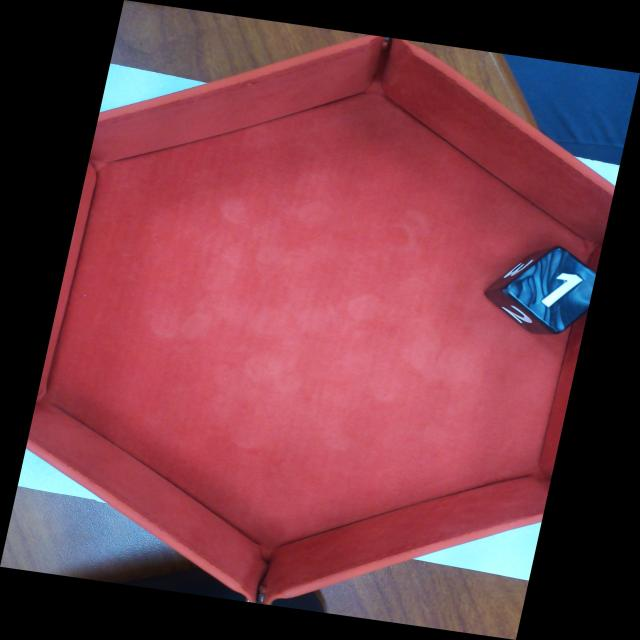dice: (502, 246, 616, 335)
